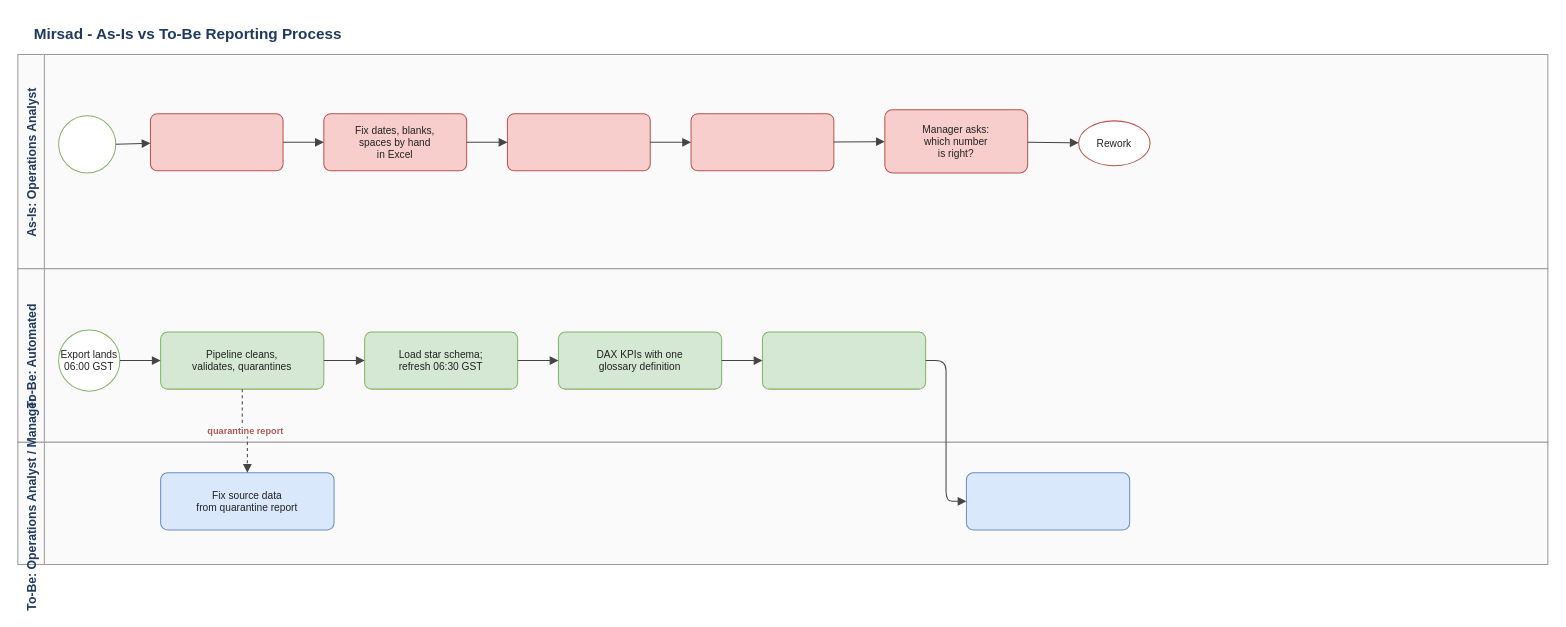
Some shapes in this 1566 by 627 pixel diagram are drawn without their labels. The shapes that lost their labels are listed below. From the top down, each one's centre as x and y in pixels, then its label:
At pixel 87 144: "Weekly Monday 08:00".
At pixel 216 142: "Download exports from 3 systems".
At pixel 578 142: "Re-build pivots and variance columns".
At pixel 762 142: "Copy charts into slide / email".
At pixel 843 360: "Dashboard and Excel workbook updated".
At pixel 1047 501: "Review dashboard; risks flagged by slicer".
